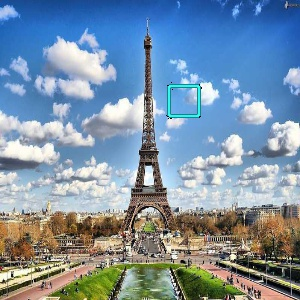square: (166, 82, 202, 119)
